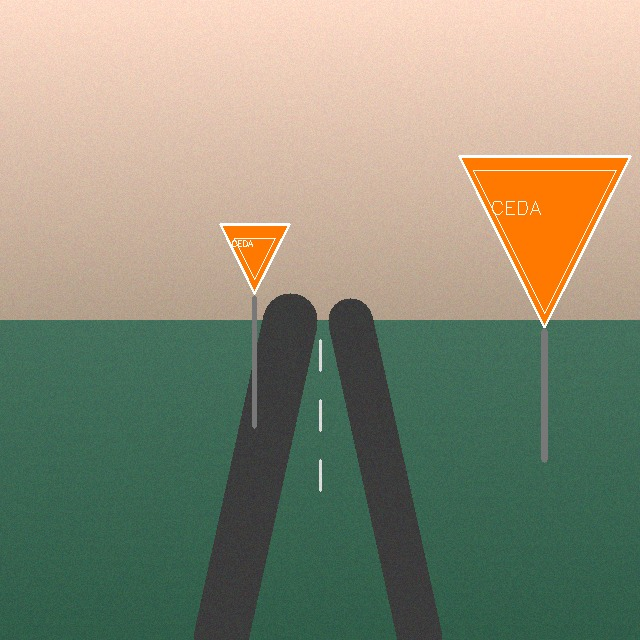ceda_el_paso: (455, 152, 634, 331), (216, 220, 293, 297)
